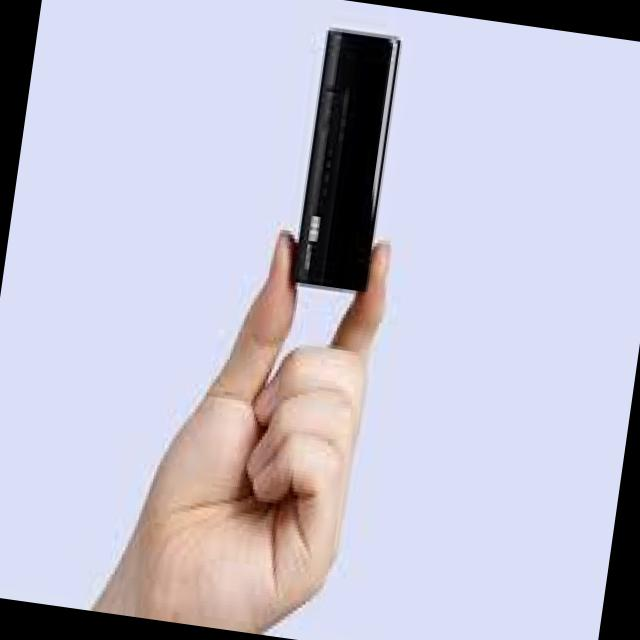portable-charger: (290, 27, 408, 296)
